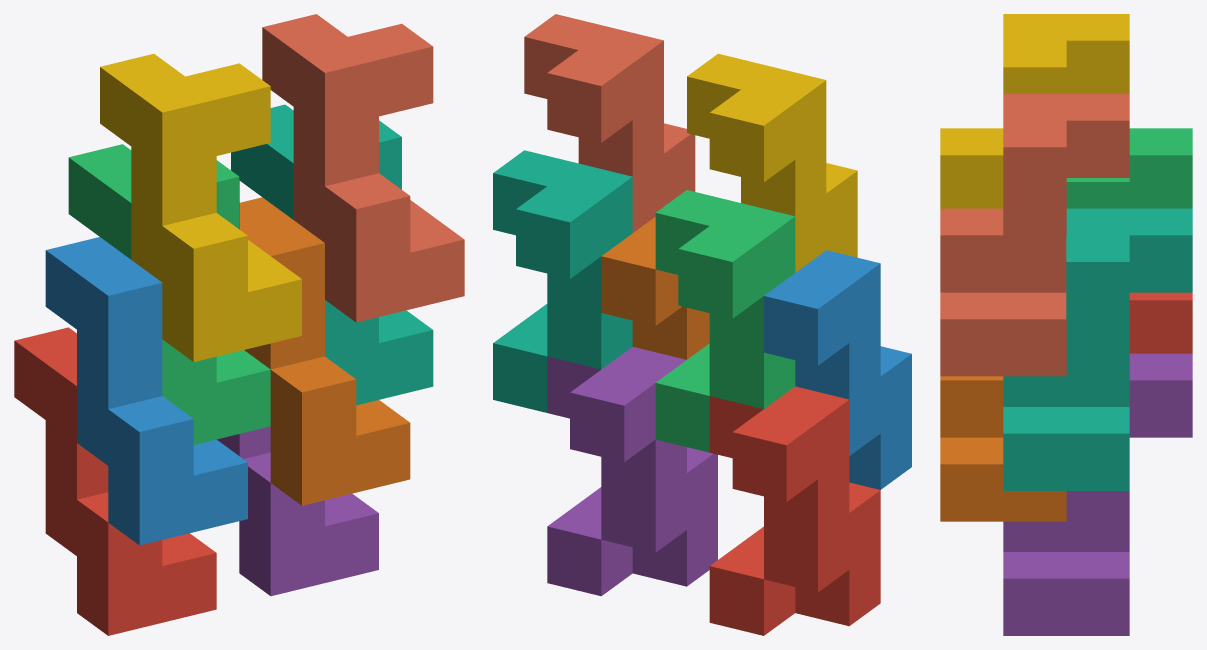
File: tiling.obj
3 views of the same model, side by side, from view 1: azimuth 30°, elevation 25°; view 2: azimuth 150°, elevation 25°; view 3: azimuth 270°, elevation 25° (orthographic).
Visible parts, largest first — view 1: copy_1_domain_8, copy_1_domain_4, copy_1_domain_2, copy_1_domain_1, copy_1_domain_6, copy_1_domain_3, copy_1_domain_5, copy_1_domain_7; view 2: copy_1_domain_1, copy_1_domain_5, copy_1_domain_3, copy_1_domain_7, copy_1_domain_4, copy_1_domain_8, copy_1_domain_2, copy_1_domain_6; view 3: copy_1_domain_8, copy_1_domain_7, copy_1_domain_5, copy_1_domain_4, copy_1_domain_6, copy_1_domain_3, copy_1_domain_1.
Boxes of the visible parts, x1,y1,x2,y2 form: copy_1_domain_8: (262, 14, 464, 322); copy_1_domain_4: (100, 53, 301, 361); copy_1_domain_2: (45, 237, 247, 545); copy_1_domain_1: (14, 327, 216, 635); copy_1_domain_6: (239, 197, 410, 505); copy_1_domain_3: (68, 144, 270, 444); copy_1_domain_5: (217, 426, 378, 596); copy_1_domain_7: (231, 104, 433, 405); copy_1_domain_1: (709, 386, 880, 635); copy_1_domain_5: (547, 347, 717, 596); copy_1_domain_3: (655, 190, 795, 452); copy_1_domain_7: (493, 150, 632, 412); copy_1_domain_4: (687, 53, 857, 272); copy_1_domain_8: (524, 14, 695, 232); copy_1_domain_2: (764, 250, 911, 489); copy_1_domain_6: (601, 217, 709, 359); copy_1_domain_8: (940, 94, 1129, 376); copy_1_domain_7: (1003, 208, 1192, 490); copy_1_domain_5: (1003, 353, 1192, 635); copy_1_domain_4: (940, 14, 1129, 208); copy_1_domain_6: (940, 376, 1066, 521); copy_1_domain_3: (1066, 128, 1192, 208); copy_1_domain_1: (1129, 292, 1192, 353).
Bounding box in the file's own units: 6 × 9 × 4.
